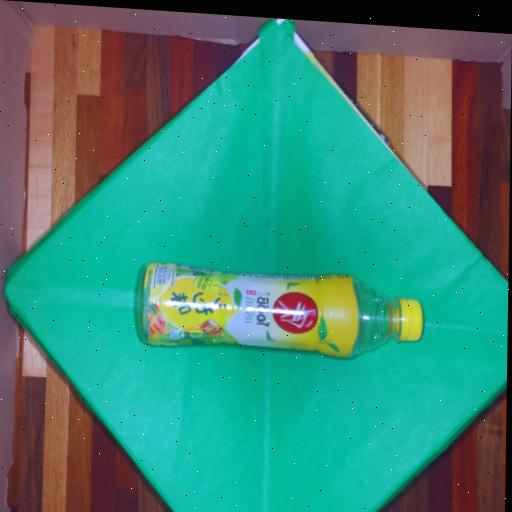bottle: (137, 263, 422, 357)
